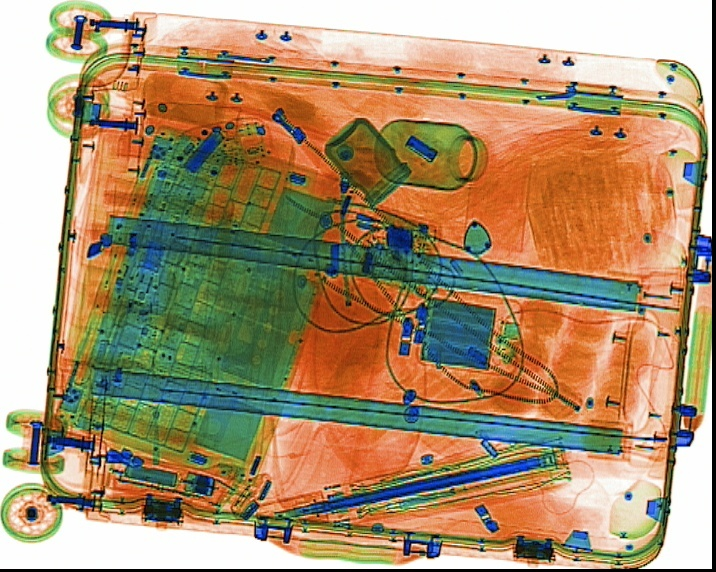powerbank: (413, 292, 496, 369)
